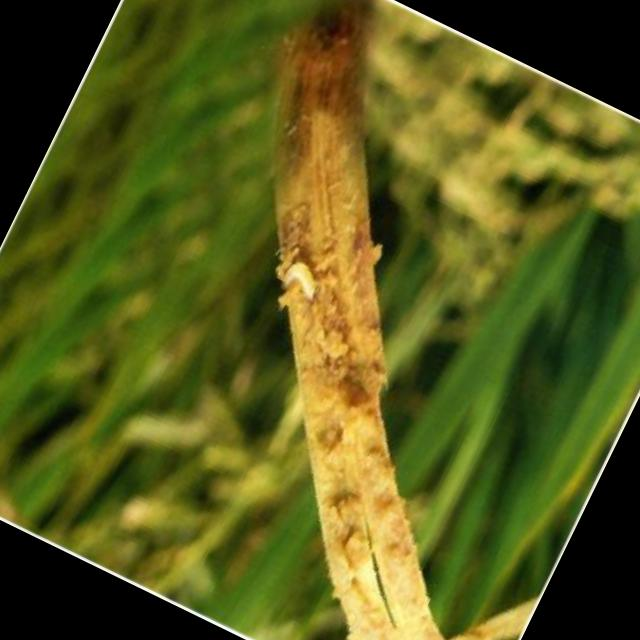whorl-maggot: (262, 245, 334, 323)
